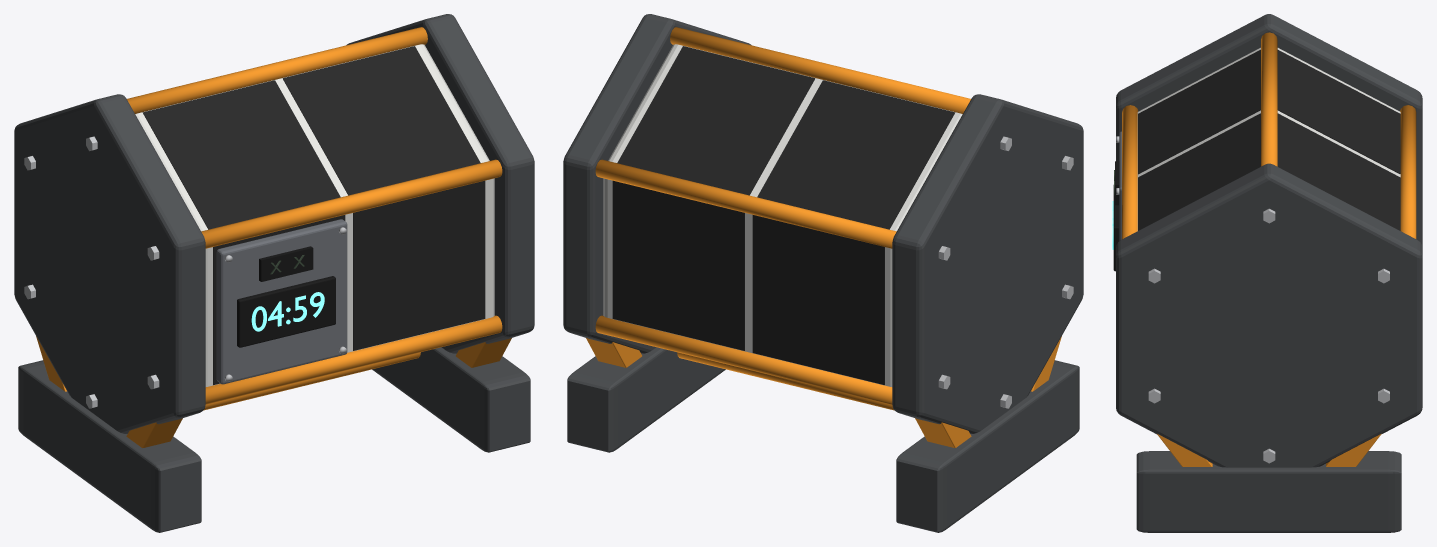
File: bomb.glb
3 views of the same model, side by side, from view 1: azimuth 30°, elevation 25°; view 2: azimuth 150°, elevation 25°; view 3: azimuth 270°, elevation 25° (orthographic). The views are drawn at different scales.
Parts seen in each view (by area): view 1: EndFlange, Recess_1, Recess_3, Recess_2, CradleBase, EndFlange.001, Module_Timer_Plate, CradleBase.001, Hull, EdgeRail.003, EdgeRail.002, EdgeRail.004 (+7 smaller); view 2: EndFlange, Recess_6, Recess_7, Recess_5, Recess_4, CradleBase, EndFlange.001, CradleBase.001, Hull, EdgeRail.001, EdgeRail, EdgeRail.002 (+3 smaller); view 3: EndFlange.001, CradleBase.001, EndFlange, Recess_4, Recess_2, Recess_5, Recess_3, EdgeRail.002, EdgeRail.001, EdgeRail.003, Hull, CradleArm.003 (+2 smaller).
Part boxes in pixels (left/top/right/bottom): EndFlange: left=14, top=94, right=205, bottom=433; Recess_1: left=353, top=180, right=485, bottom=350; Recess_3: left=282, top=46, right=480, bottom=195; Recess_2: left=142, top=80, right=340, bottom=229; CradleBase: left=18, top=360, right=201, bottom=532; EndFlange.001: left=346, top=14, right=534, bottom=353; Module_Timer_Plate: left=216, top=219, right=347, bottom=384; CradleBase.001: left=372, top=347, right=530, bottom=452; Hull: left=135, top=44, right=494, bottom=386; EdgeRail.003: left=201, top=159, right=502, bottom=248; EdgeRail.002: left=127, top=27, right=427, bottom=113; EdgeRail.004: left=205, top=315, right=502, bottom=404; EndFlange: left=892, top=94, right=1083, bottom=433; Recess_6: left=752, top=215, right=884, bottom=384; Recess_7: left=612, top=180, right=744, bottom=350; Recess_5: left=617, top=46, right=815, bottom=195; Recess_4: left=757, top=80, right=955, bottom=229; CradleBase: left=896, top=360, right=1079, bottom=532; EndFlange.001: left=563, top=14, right=751, bottom=353; CradleBase.001: left=567, top=347, right=725, bottom=452; Hull: left=603, top=44, right=962, bottom=386; EdgeRail.001: left=595, top=159, right=896, bottom=248; EdgeRail: left=595, top=315, right=892, bottom=404; EdgeRail.002: left=670, top=27, right=970, bottom=113; EndFlange.001: left=1116, top=163, right=1422, bottom=467; CradleBase.001: left=1136, top=451, right=1401, bottom=532; EndFlange: left=1116, top=14, right=1422, bottom=247; Recess_4: left=1277, top=50, right=1400, bottom=173; Recess_2: left=1138, top=49, right=1260, bottom=174; Recess_5: left=1277, top=113, right=1400, bottom=230; Recess_3: left=1138, top=113, right=1260, bottom=230; EdgeRail.002: left=1261, top=32, right=1277, bottom=166; EdgeRail.001: left=1400, top=105, right=1416, bottom=238; EdgeRail.003: left=1122, top=105, right=1138, bottom=239; Hull: left=1137, top=47, right=1400, bottom=230; CradleArm.003: left=1326, top=433, right=1381, bottom=466.
Bounding box in the file's own units: 2.89 × 2.81 × 2.22.
